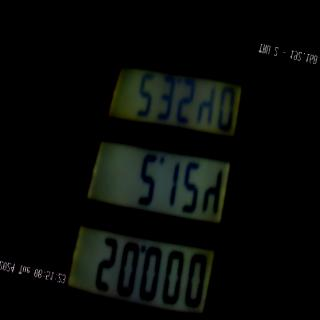screen: (52, 35, 269, 320)
